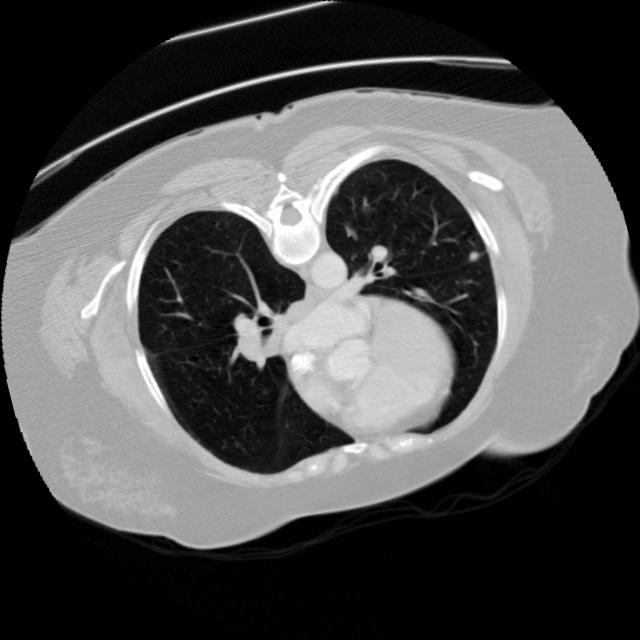nodule: (456, 242, 486, 272)
